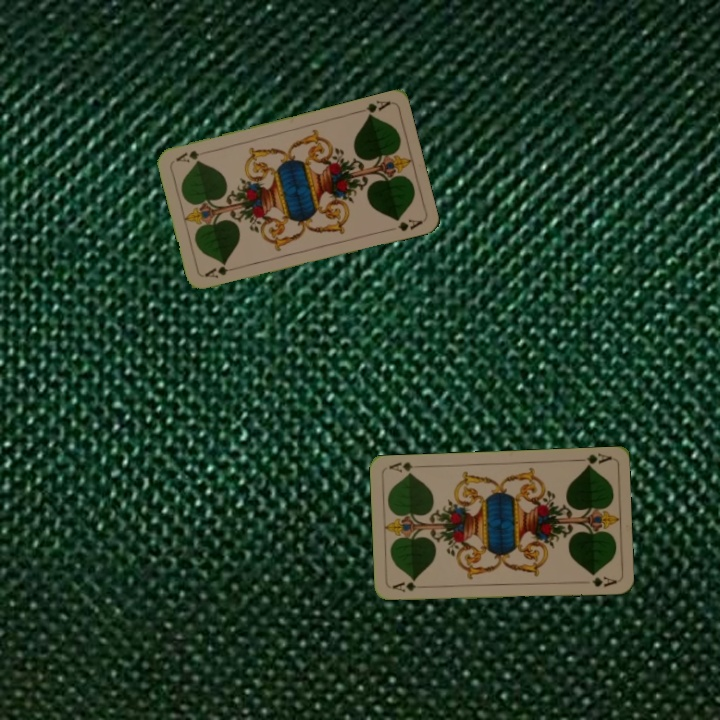GA: (353, 97, 393, 120), (573, 450, 613, 470), (201, 262, 241, 281), (389, 578, 429, 595)
